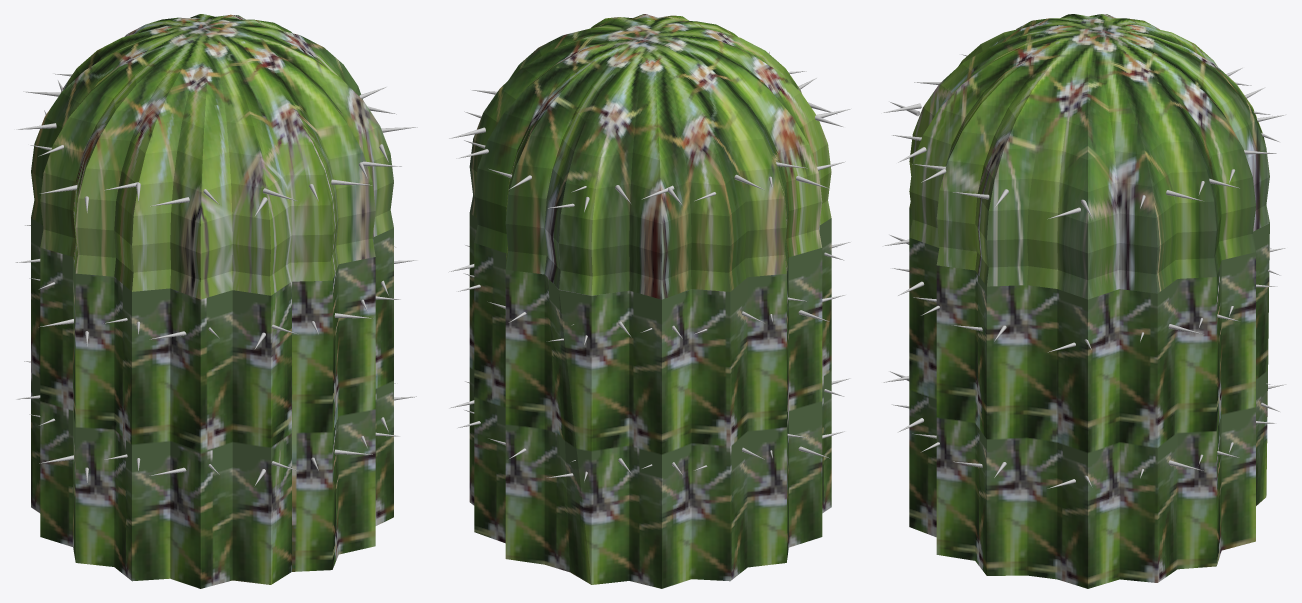
File: cacutus.obj
3 views of the same model, side by side, from view 1: azimuth 30°, elevation 25°; view 2: azimuth 150°, elevation 25°; view 3: azimuth 270°, elevation 25° (orthographic).
Parts seen in each view (by area): view 1: Sphere; view 2: Sphere; view 3: Sphere.
Part boxes in pixels (<box>): Sphere: <box>31,14,393,588</box>; Sphere: <box>469,14,831,588</box>; Sphere: <box>909,14,1269,588</box>.
Bounding box in the file's own units: 2.56 × 3.32 × 2.54.
